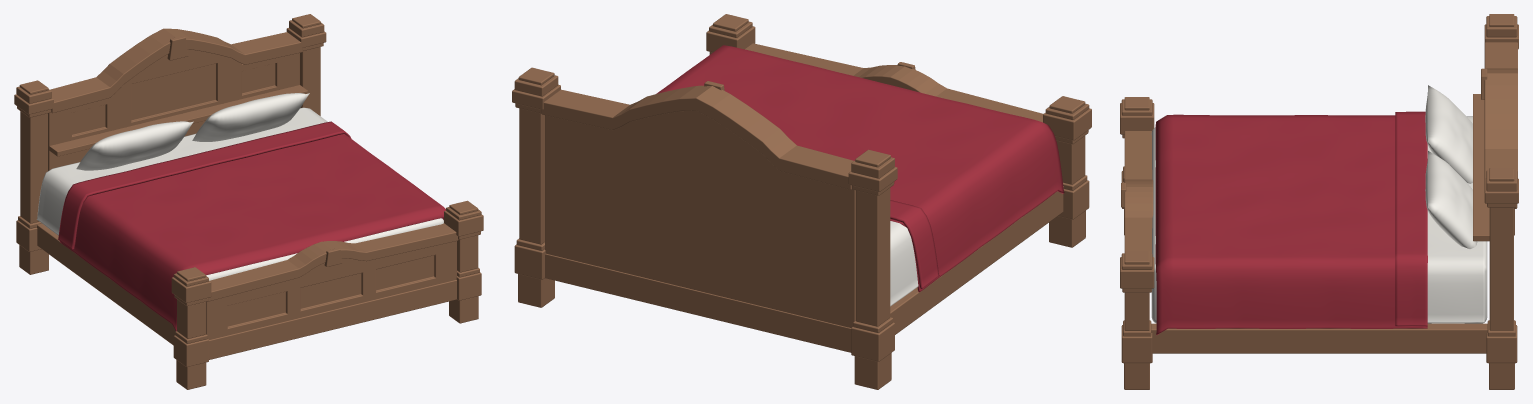
Rendered from BedKing.glb.
3 renders of one model, left to right at view 1: azimuth 30°, elevation 25°; view 2: azimuth 150°, elevation 25°; view 3: azimuth 270°, elevation 25°, orthographic. The views are drawn at different scales.
Visible parts, largest first — view 1: Bed_Duvet, Bed_Footboard, Bed_Headboard, Bed_Headboard_Cap, Bed_Duvet_Cuff, Bed_Footboard_Cap, Bed_Post_HL, Bed_Sheet, Bed_Post_FL, Bed_Post_FR, Bed_Pillow_L, Bed_Pillow_R (+3 smaller); view 2: Bed_Headboard, Bed_Duvet, Bed_Headboard_Cap, Bed_Post_HL, Bed_Post_HR, Bed_Post_FL, Bed_Rail_L, Bed_Footboard_Cap, Bed_Duvet_Cuff, Bed_Sheet, Bed_Post_FR; view 3: Bed_Duvet, Bed_Rail_R, Bed_Duvet_Cuff, Bed_Post_HR, Bed_Sheet, Bed_Headboard_Cap, Bed_Post_FR, Bed_Footboard_Cap, Bed_Pillow_R, Bed_Pillow_L, Bed_Headboard, Bed_Post_FL (+2 smaller).
Boxes of the visible parts, bbox=[...] form: Bed_Duvet: bbox=[60, 134, 445, 331]; Bed_Footboard: bbox=[206, 241, 456, 359]; Bed_Headboard: bbox=[48, 49, 307, 170]; Bed_Headboard_Cap: bbox=[50, 28, 302, 113]; Bed_Duvet_Cuff: bbox=[58, 121, 351, 250]; Bed_Footboard_Cap: bbox=[207, 223, 458, 301]; Bed_Post_HL: bbox=[14, 80, 53, 274]; Bed_Sheet: bbox=[37, 107, 327, 235]; Bed_Post_FL: bbox=[171, 267, 211, 389]; Bed_Post_FR: bbox=[444, 200, 483, 323]; Bed_Pillow_L: bbox=[76, 121, 193, 170]; Bed_Pillow_R: bbox=[192, 93, 309, 141]; Bed_Headboard: bbox=[545, 110, 855, 352]; Bed_Duvet: bbox=[656, 45, 1064, 292]; Bed_Headboard_Cap: bbox=[541, 81, 853, 189]; Bed_Post_HL: bbox=[848, 149, 897, 389]; Bed_Post_HR: bbox=[512, 67, 560, 307]; Bed_Post_FL: bbox=[1043, 96, 1091, 247]; Bed_Rail_L: bbox=[890, 186, 1063, 334]; Bed_Footboard_Cap: bbox=[745, 43, 1043, 122]; Bed_Duvet_Cuff: bbox=[890, 200, 939, 289]; Bed_Sheet: bbox=[890, 221, 918, 306]; Bed_Post_FR: bbox=[706, 14, 755, 54]; Bed_Duvet: bbox=[1155, 114, 1427, 334]; Bed_Rail_R: bbox=[1151, 323, 1487, 353]; Bed_Duvet_Cuff: bbox=[1395, 111, 1427, 326]; Bed_Post_HR: bbox=[1484, 168, 1518, 389]; Bed_Sheet: bbox=[1427, 116, 1484, 323]; Bed_Headboard_Cap: bbox=[1481, 42, 1517, 178]; Bed_Post_FR: bbox=[1120, 251, 1154, 389]; Bed_Footboard_Cap: bbox=[1121, 131, 1153, 253]; Bed_Pillow_R: bbox=[1425, 151, 1477, 248]; Bed_Pillow_L: bbox=[1425, 85, 1472, 183]; Bed_Headboard: bbox=[1473, 94, 1489, 241]; Bed_Post_FL: bbox=[1120, 97, 1154, 235].
Bounding box in the file's own units: 2.21 × 1.44 × 2.21.
